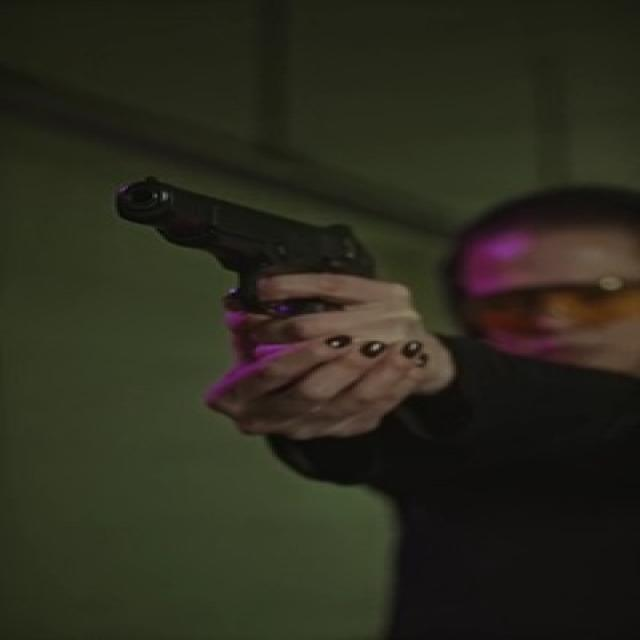Gun_Holder: (83, 167, 457, 454)
Person: (253, 180, 640, 640)
